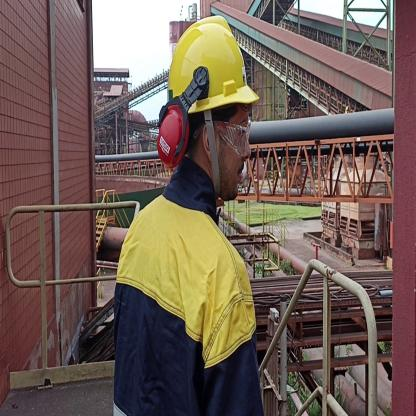C_eletrica: (108, 201, 264, 416)
Capacete: (166, 13, 258, 108)
